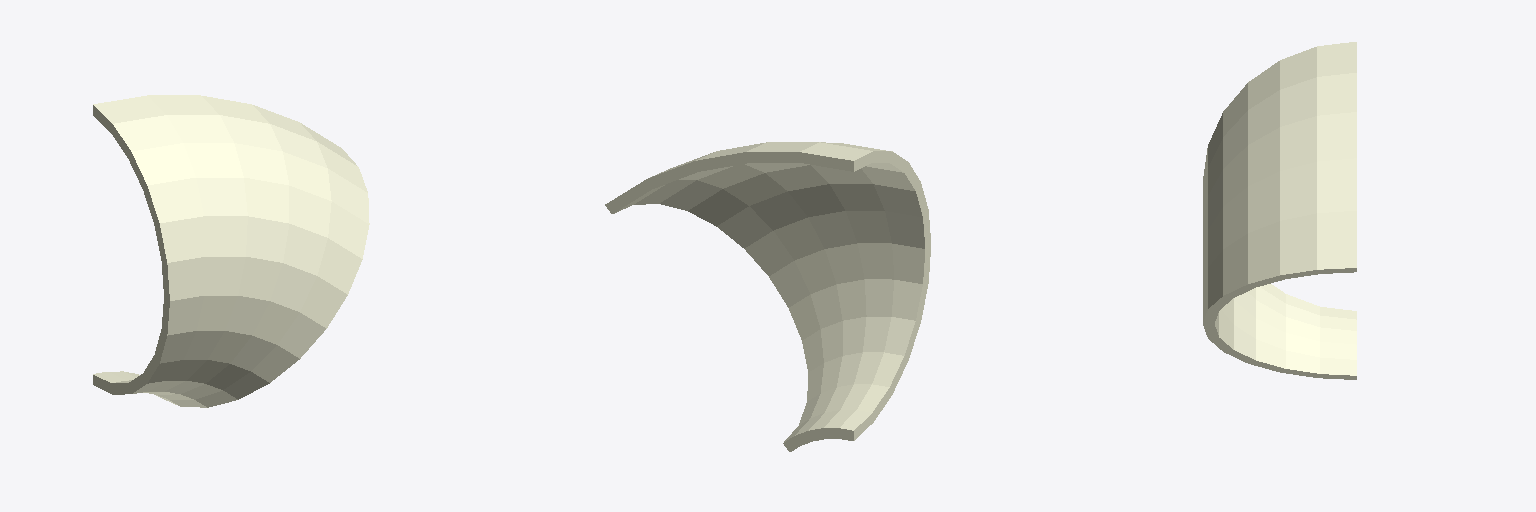
The model's file is section_019.obj.
The picture shows the model from 3 angles: view 1: azimuth 30°, elevation 25°; view 2: azimuth 150°, elevation 25°; view 3: azimuth 270°, elevation 25°; orthographic projection.
Bounding box in the file's own units: 24.2 × 28.5 × 13.